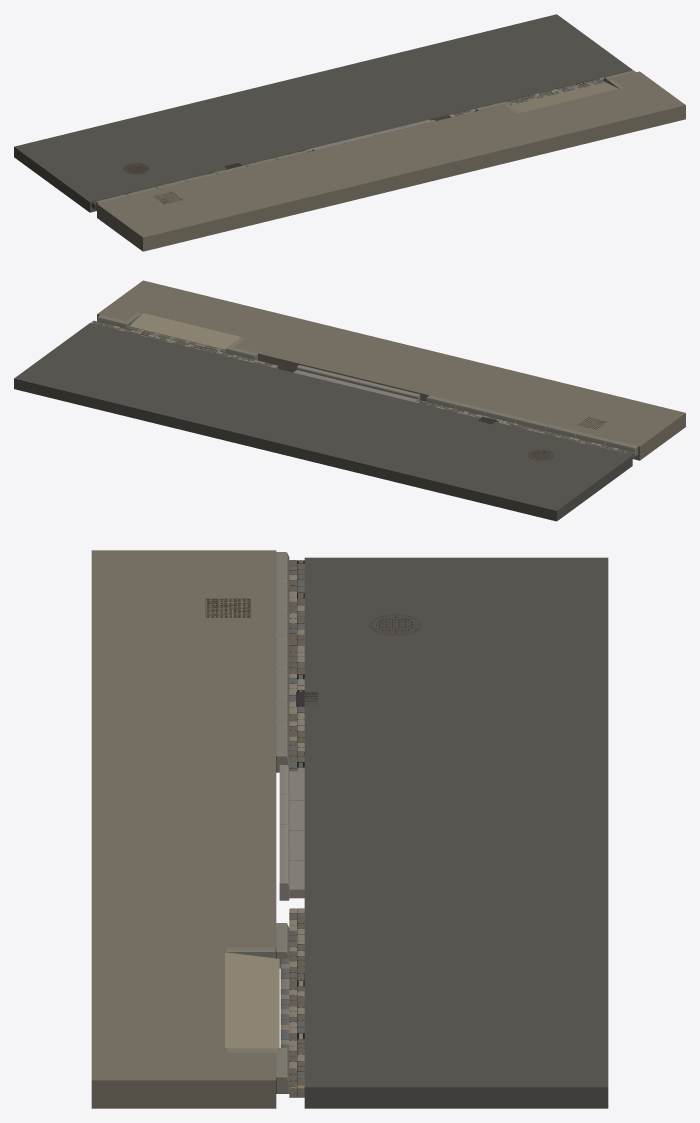
The model's file is review_scene.glb.
The picture shows the model from 3 angles, top to bottom: view 1: azimuth 30°, elevation 25°; view 2: azimuth 150°, elevation 25°; view 3: azimuth 270°, elevation 25°; orthographic projection. The views are drawn at different scales.
Parts seen in each view (by area): view 1: ground_road, ground_footway, ground_footway.001, ramp, ground_footway.003; view 2: ground_road, ground_footway, ground_footway.001, ramp, sett_sett_dull, sett_b_sett_dull, ground_footway.003; view 3: ground_road, ground_footway, ground_footway.001, ramp, ground_footway.003, sett_b_sett_dull, sett_sett_dull, ground_footway.002, sett_b_sett_pale_worn, sett_sett_pale_worn.
Part boxes in pixels (bbox=[...]): ground_road: bbox=[14, 14, 632, 212]; ground_footway: bbox=[97, 111, 524, 251]; ground_footway.001: bbox=[492, 81, 685, 158]; ramp: bbox=[511, 82, 618, 112]; ground_footway.003: bbox=[612, 71, 652, 87]; ground_road: bbox=[14, 323, 632, 521]; ground_footway: bbox=[258, 320, 685, 460]; ground_footway.001: bbox=[110, 280, 303, 343]; ramp: bbox=[129, 313, 240, 349]; sett_sett_dull: bbox=[416, 400, 634, 458]; sett_b_sett_dull: bbox=[93, 321, 271, 365]; ground_footway.003: bbox=[97, 305, 137, 320]; ground_road: bbox=[304, 557, 608, 1108]; ground_footway: bbox=[91, 550, 276, 922]; ground_footway.001: bbox=[91, 923, 224, 1108]; ramp: bbox=[225, 952, 279, 1052]; ground_footway.003: bbox=[225, 1052, 276, 1108]; sett_b_sett_dull: bbox=[289, 913, 304, 1086]; sett_sett_dull: bbox=[289, 560, 304, 771]; ground_footway.002: bbox=[225, 923, 276, 958]; sett_b_sett_pale_worn: bbox=[289, 908, 304, 1097]; sett_sett_pale_worn: bbox=[289, 575, 304, 771].
Size of the model in its own units: 16.5 by 0.454 by 6.8.
